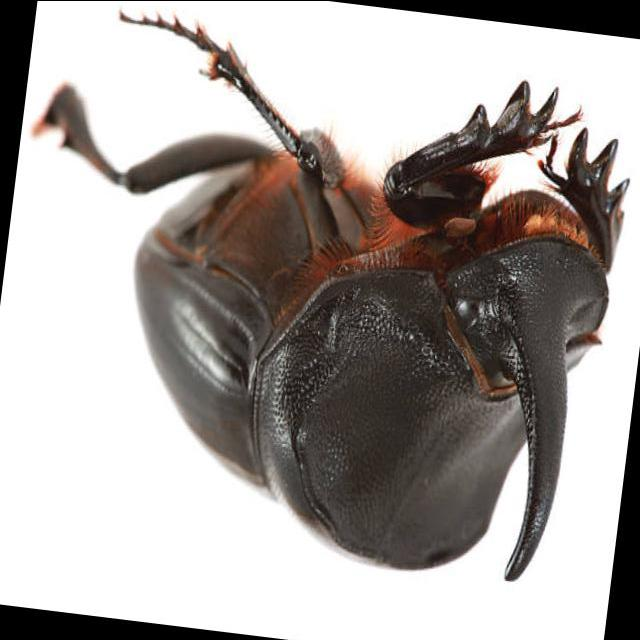Rhino-beetle: (76, 45, 634, 609)
